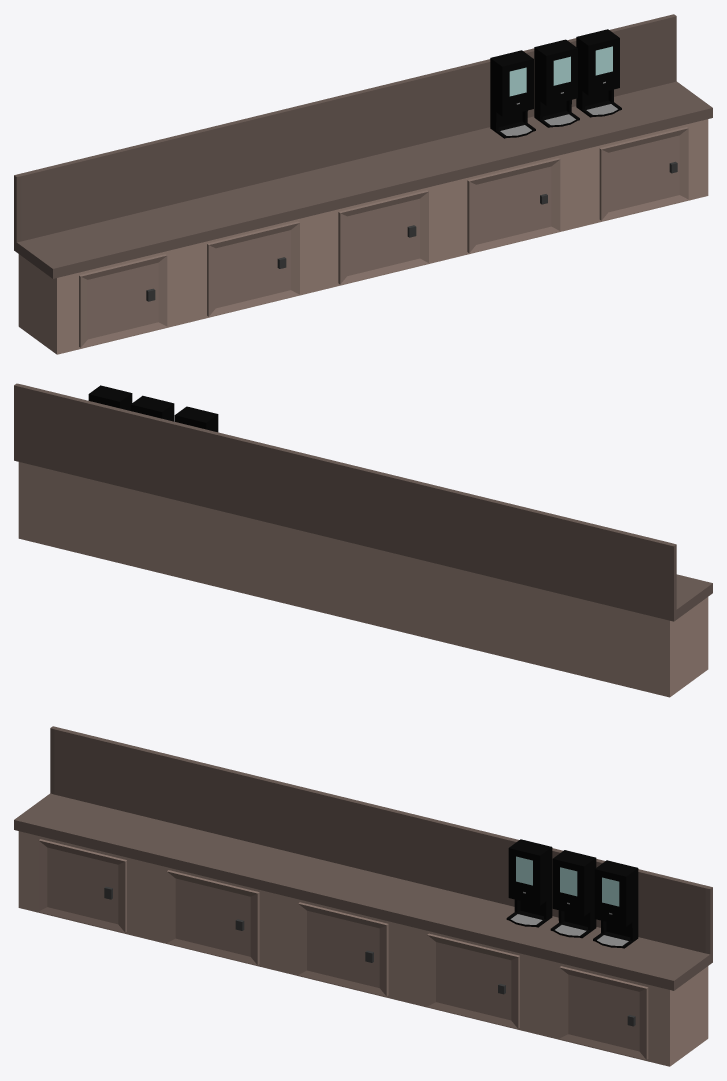
The model's file is BackShelf.fbx.
The picture shows the model from 3 angles, top to bottom: view 1: azimuth 30°, elevation 25°; view 2: azimuth 150°, elevation 25°; view 3: azimuth 330°, elevation 25°; orthographic projection.
Parts seen in each view (by area): view 1: BackCounter, CoffeeMachine.003; view 2: BackCounter, CoffeeMachine.003; view 3: BackCounter, CoffeeMachine.003.
Boxes of the visible parts, box(x1,y1,x2,y2) form: BackCounter: box(14, 14, 712, 354); CoffeeMachine.003: box(490, 29, 621, 138); BackCounter: box(14, 383, 712, 697); CoffeeMachine.003: box(88, 385, 218, 432); BackCounter: box(14, 726, 712, 1066); CoffeeMachine.003: box(506, 839, 638, 948).
Size of the model in its own units: 699 by 160 by 76.11.
